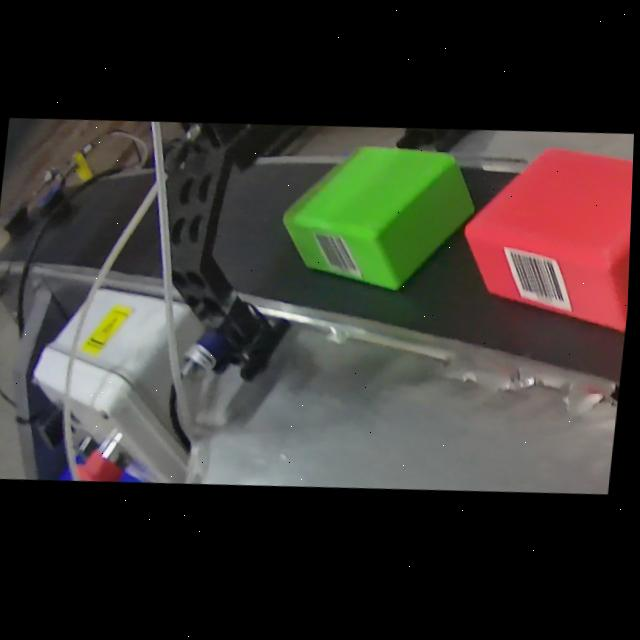greenBox: (275, 137, 486, 309)
redBox: (451, 139, 635, 349)
